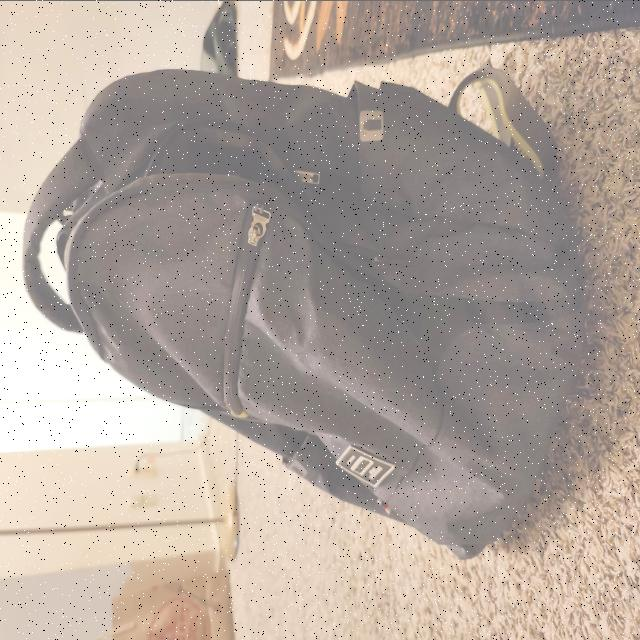bag: (25, 69, 572, 549)
